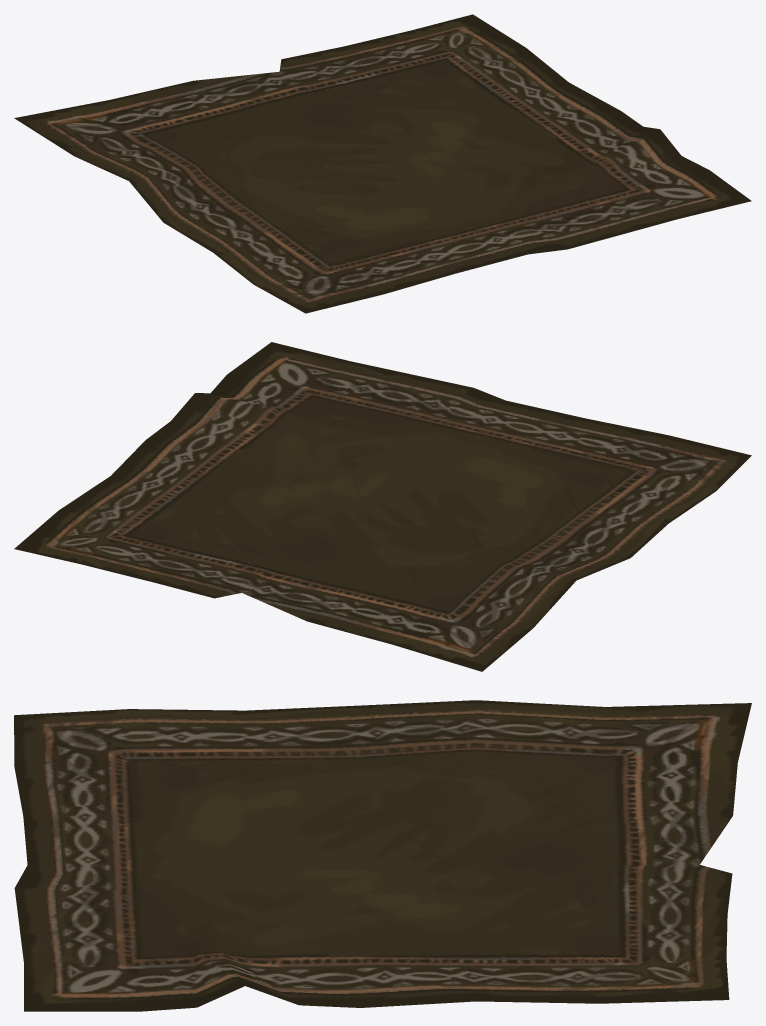
The model's file is SM_PROP_rug_battle_02.fbx.
3 views of the same model, one above another, from view 1: azimuth 30°, elevation 25°; view 2: azimuth 150°, elevation 25°; view 3: azimuth 270°, elevation 25° (orthographic). The views are drawn at different scales.
Parts seen in each view (by area): view 1: SM_PROP_rug_battle_02; view 2: SM_PROP_rug_battle_02; view 3: SM_PROP_rug_battle_02.
Boxes of the visible parts, <box> form: SM_PROP_rug_battle_02: <box>14,14,751,313</box>; SM_PROP_rug_battle_02: <box>14,342,751,671</box>; SM_PROP_rug_battle_02: <box>14,700,751,1011</box>.
Bounding box in the file's own units: 315 × 9.23 × 318.
